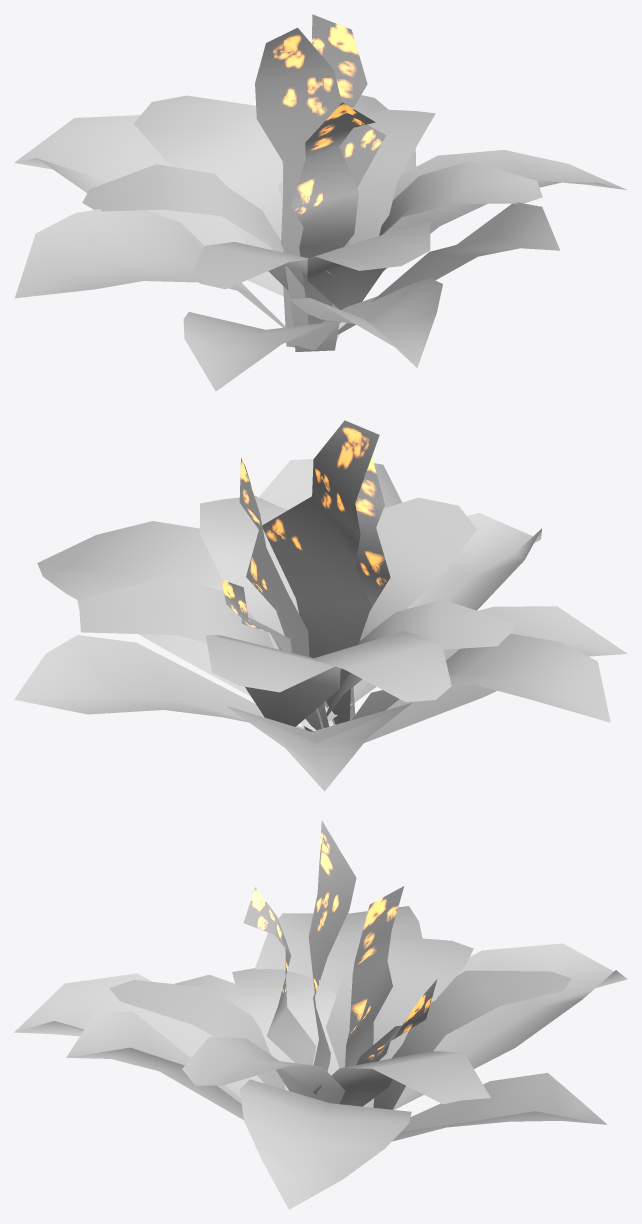
File: LeafsBigBush01.fbx
3 views of the same model, one above another, from view 1: azimuth 30°, elevation 25°; view 2: azimuth 150°, elevation 25°; view 3: azimuth 270°, elevation 25° (orthographic). The views are drawn at different scales.
Visible parts, largest first — view 1: Plane.087; view 2: Plane.087; view 3: Plane.087.
Part boxes in pixels (bbox=[...]): Plane.087: bbox=[14, 14, 626, 391]; Plane.087: bbox=[14, 420, 627, 791]; Plane.087: bbox=[14, 820, 627, 1209].
Size of the model in its own units: 12.36 by 6.66 by 11.24.
